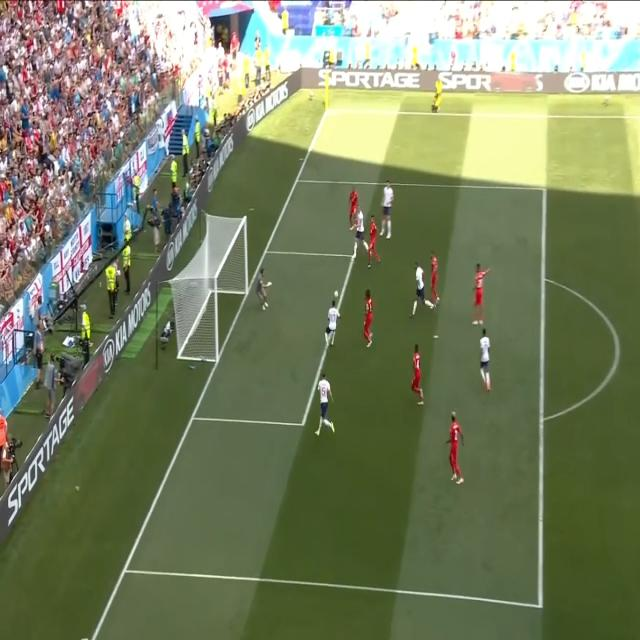ball: (333, 284, 339, 303)
player: (444, 408, 466, 488), (312, 371, 336, 441), (471, 258, 493, 327), (411, 256, 433, 318), (408, 343, 426, 410), (477, 326, 492, 397), (379, 177, 395, 240), (322, 302, 342, 349), (366, 216, 382, 270), (351, 211, 368, 261), (362, 286, 375, 350), (432, 252, 440, 310), (348, 183, 360, 213)
